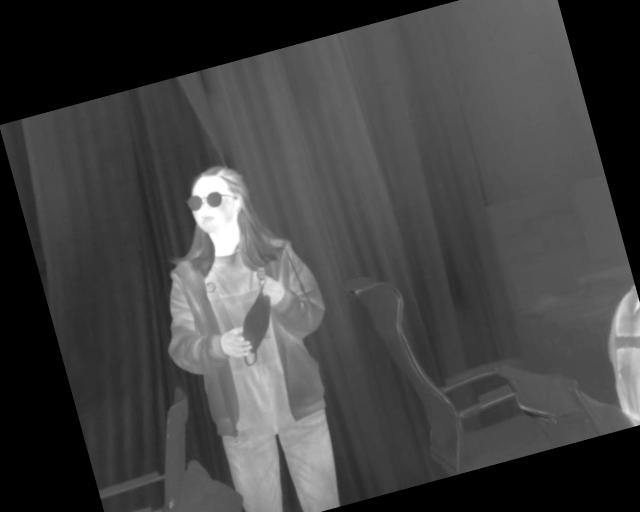face: (477, 158, 614, 308), (342, 274, 451, 392)
